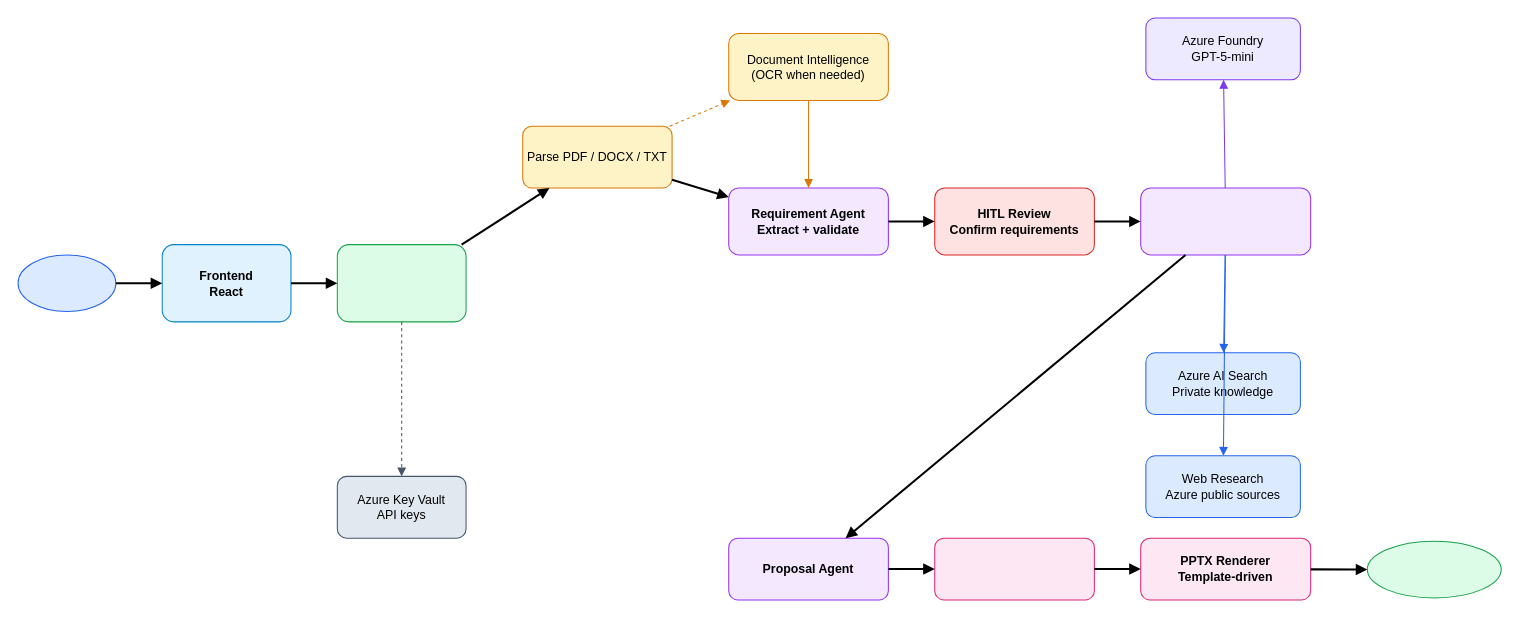
Some shapes in this 1519 by 618 pixel diagram are drawn without their labels. The centre of each missing label's shape, as x and y in pixels:
Backend Flask API: (401,283)
Final PowerPoint: (1433,569)
Slide Planner: (1014,568)
Solution Architect Agent Architecture + cost: (1225,221)
User: (66,283)
